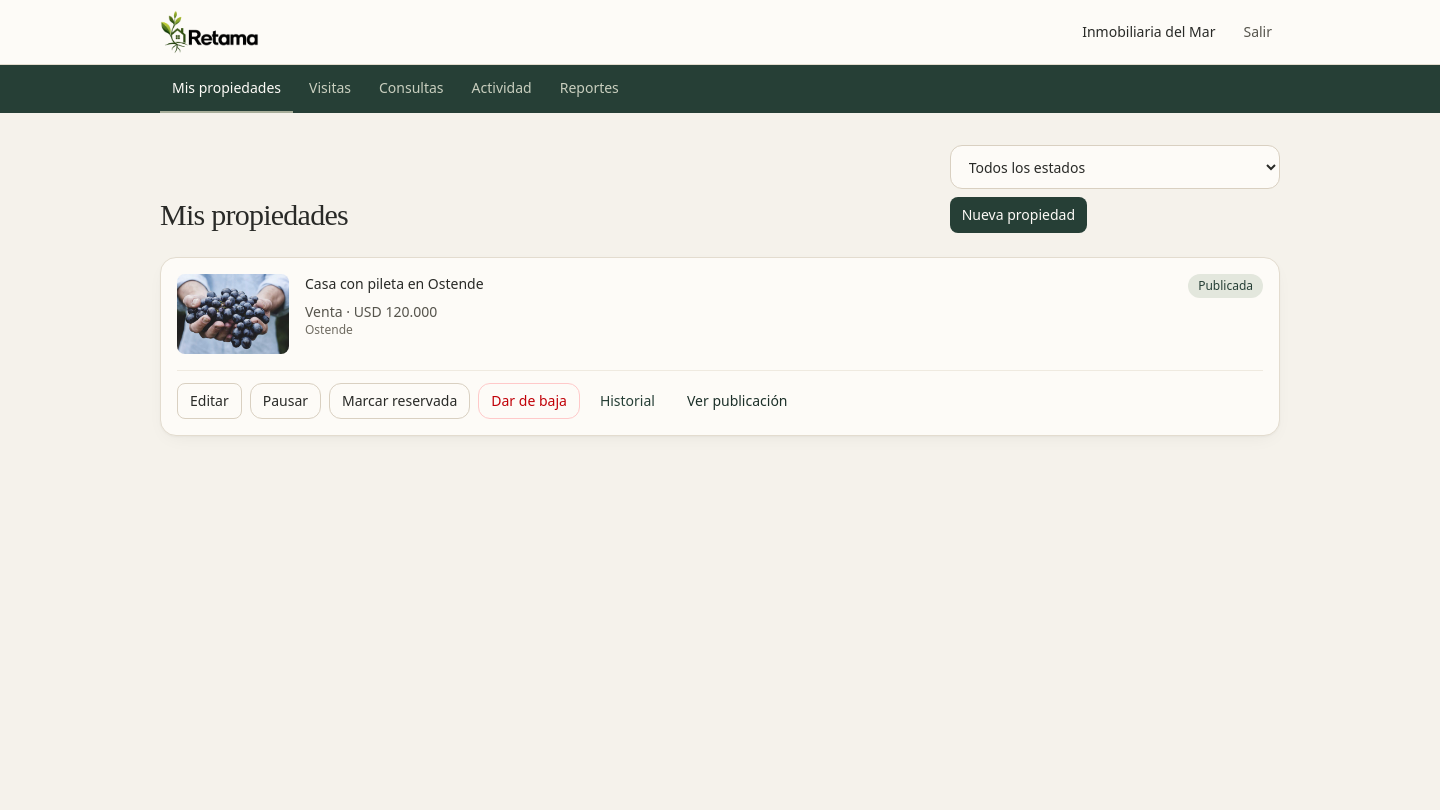
ciclo de vida de la propiedad › dar de baja pide confirmacion: un solo click no ejecuta nada
Click the button "Dar de baja" at coordinates (529, 401), box [478, 383, 580, 419]
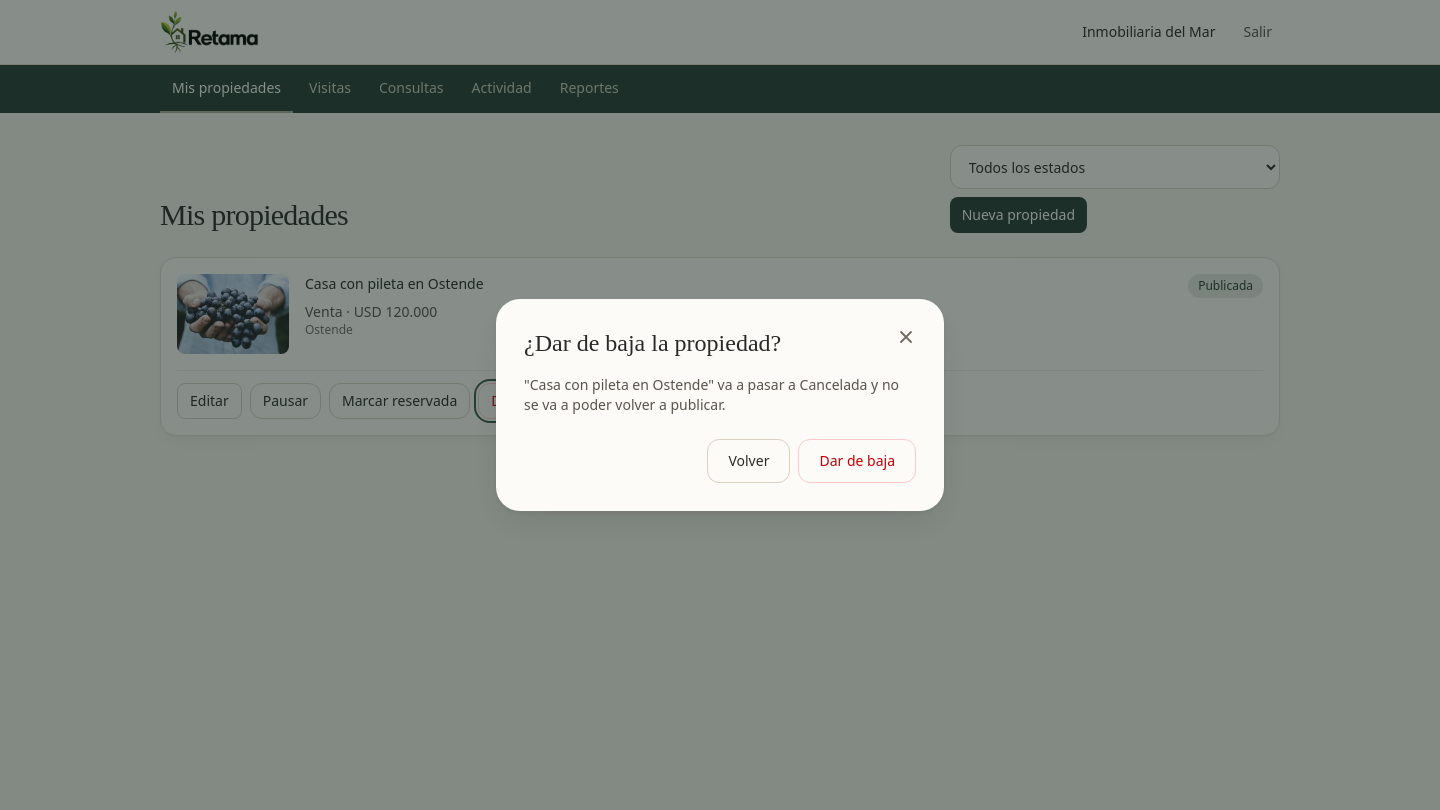
Expected: the dialog "¿Dar de baja la propiedad?" shows "Casa con pileta en Ostende", [524, 375, 899, 414]
Click the button "Volver" at coordinates (749, 461), box [707, 439, 790, 483]
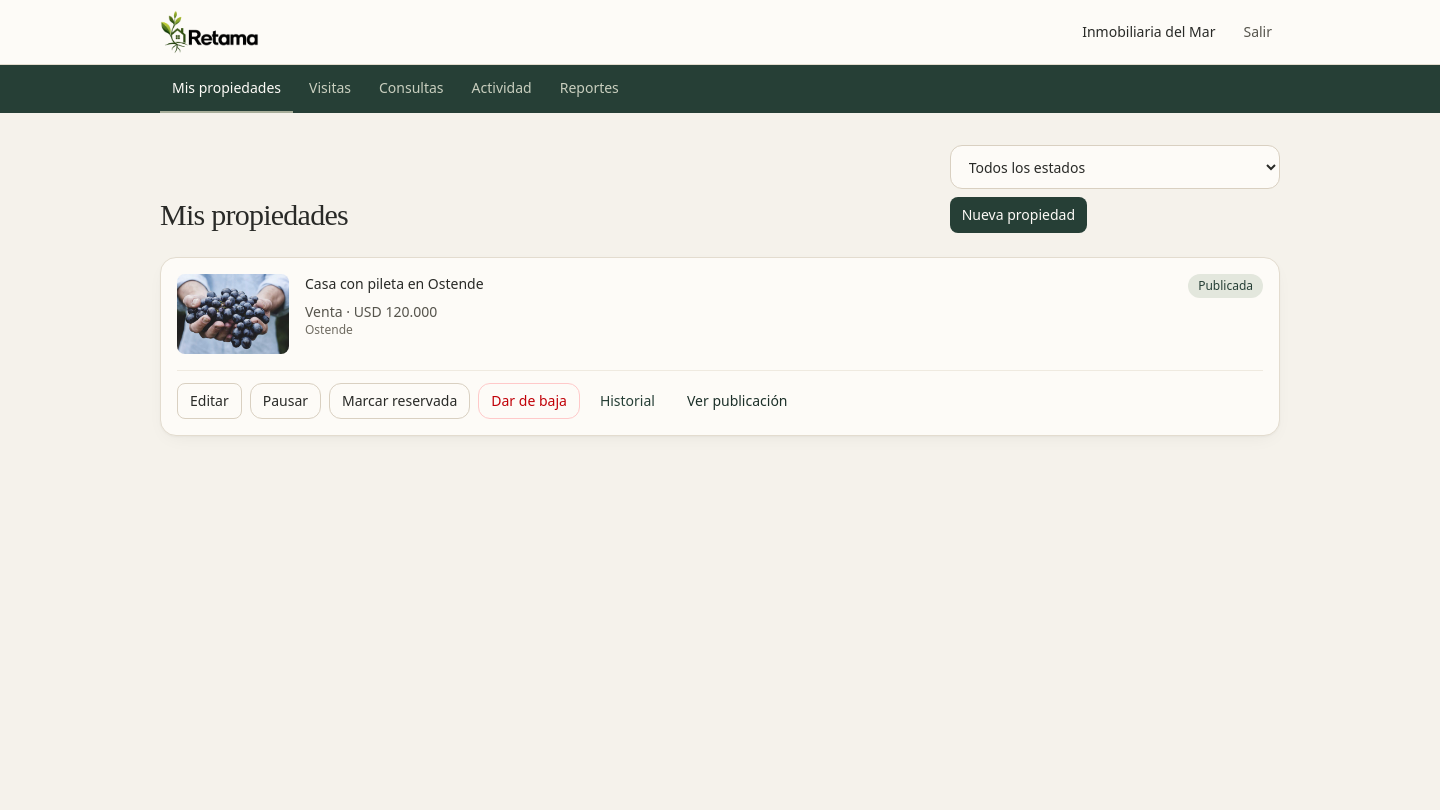
Expected: the dialog is gone
